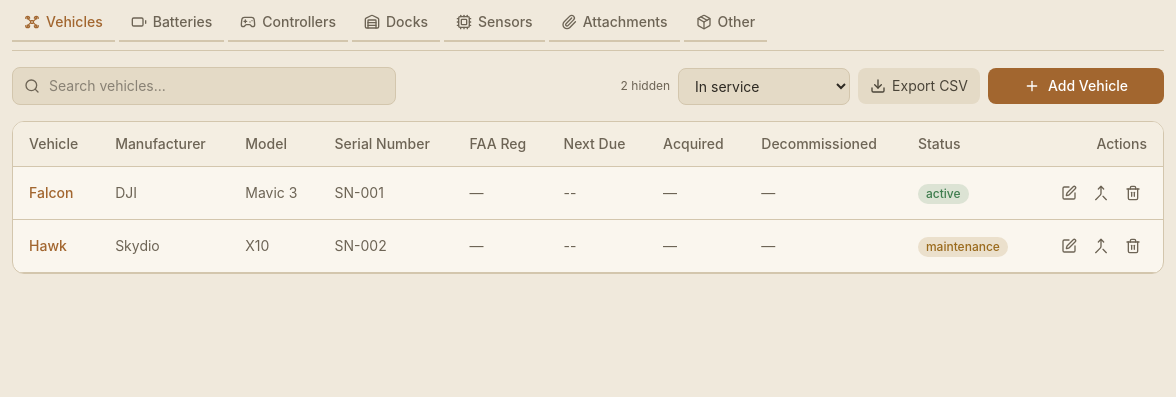
it: FleetPage › shows everything on "All statuses"
The image size is (1176, 397).
Expected: the link "Falcon" is shown, [29,184,73,201]
Select "All statuses" in the dropdown named "Status". click: {"x": 764, "y": 86}
box: [678,68,850,104]
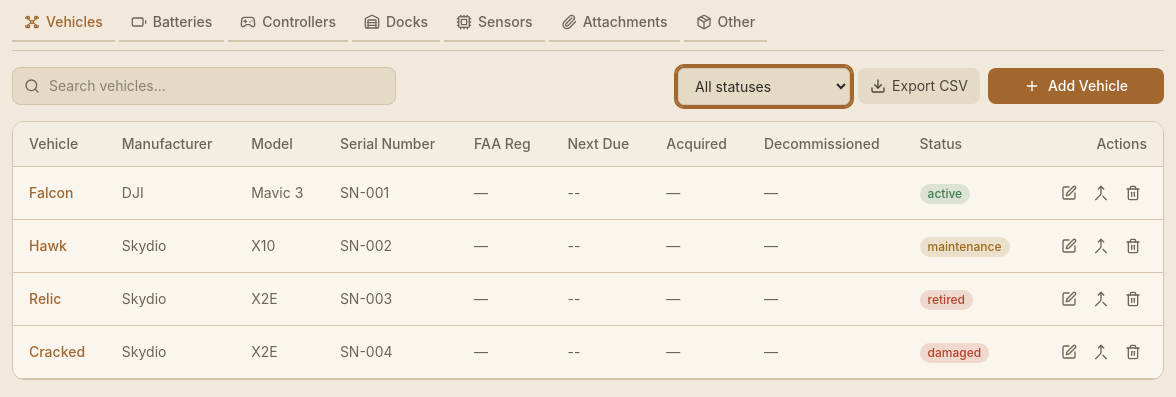
Result: the link "Relic" is shown at [29,290,61,307]
Result: the link "Cracked" is shown at [29,343,85,360]
Result: the text "hidden" is gone
